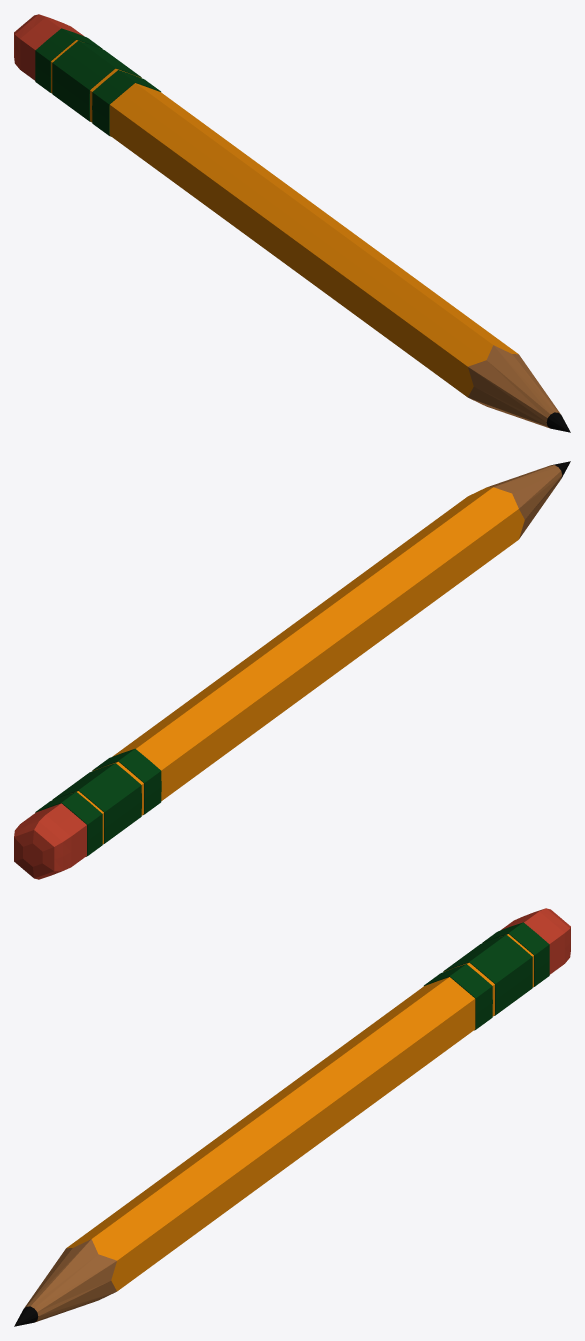
Rendered from pencil.obj.
The picture shows the model from 3 angles, top to bottom: view 1: azimuth 30°, elevation 25°; view 2: azimuth 150°, elevation 25°; view 3: azimuth 330°, elevation 25°; orthographic projection.
Size of the model in its own units: 0.6894 by 0.7904 by 12.23.
